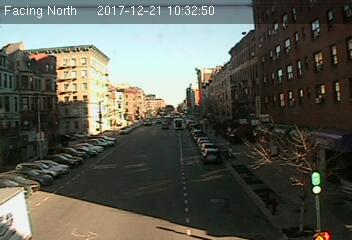car: (201, 147, 221, 164)
truck: (173, 118, 184, 130)
